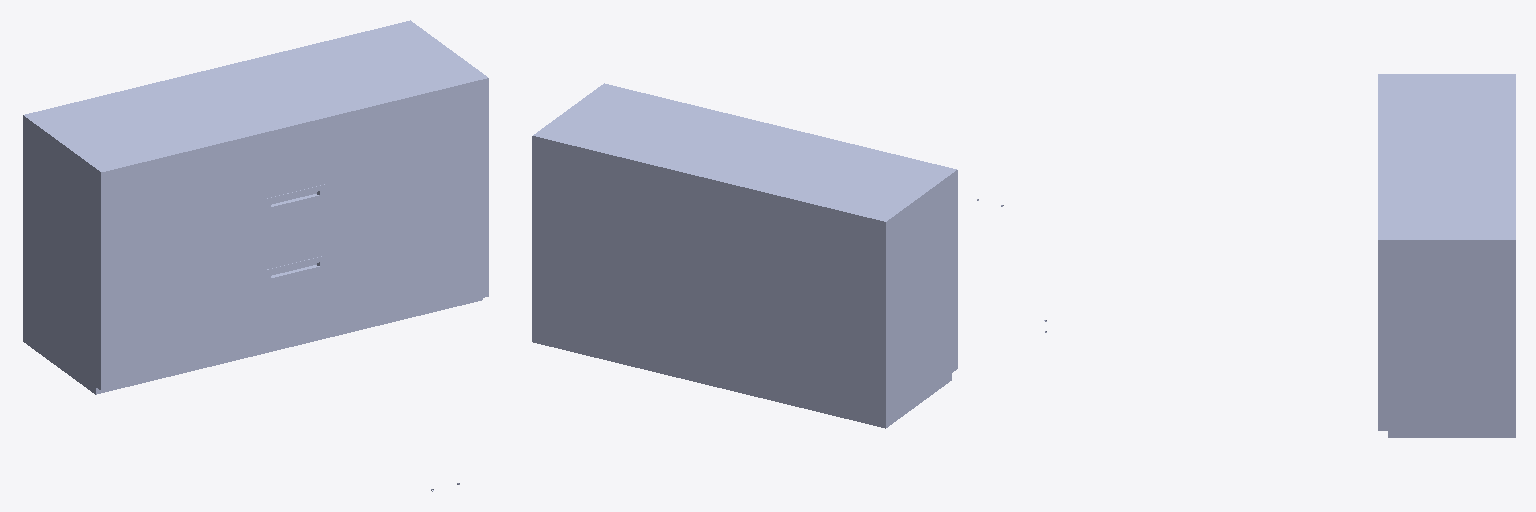
The robot description file, URDF, robot "chest_drawer_wooden":
<robot
  name="chest_drawer_wooden">
  <link
    name="chest_drawer_wooden">
    <inertial>
      <origin
        xyz="0.7204 -1.3051 0.86445"
        rpy="0 0 0" />
      <mass
        value="229.57" />
      <inertia
        ixx="25.0559197064833"
        ixy="-1.36772231973098E-14"
        ixz="1.11574402502704E-14"
        iyy="72.3452375143369"
        iyz="-0.193817859260018"
        izz="62.8744226375866" />
    </inertial>
    <visual>
      <origin
        xyz="0 0 0"
        rpy="0 0 0" />
      <geometry>
        <mesh
          filename="package://chest_drawer_wooden/meshes/chest_drawer_wooden.dae" />
      </geometry>
      <material
        name="">
        <color
          rgba="0.79216 0.81961 0.93333 1" />
      </material>
    </visual>
    <collision>
      <origin
        xyz="0 0 0"
        rpy="0 0 0" />
      <geometry>
        <mesh
          filename="package://chest_drawer_wooden/meshes/chest_drawer_wooden.dae" />
      </geometry>
    </collision>
  </link>
</robot>

--- Render facts (derived) ---
3 views of the same robot in one strip: view 1: azimuth 30°, elevation 25°; view 2: azimuth 150°, elevation 25°; view 3: azimuth 270°, elevation 25° (orthographic).
Robot: chest_drawer_wooden — 1 links, 0 joints (none); root link chest_drawer_wooden; default pose: all joints at 0.
Links seen in each view (by area): view 1: chest_drawer_wooden; view 2: chest_drawer_wooden; view 3: chest_drawer_wooden.
Boxes of the visible links, x1=… form: chest_drawer_wooden: x1=23, y1=20, x2=488, y2=491; chest_drawer_wooden: x1=532, y1=83, x2=1003, y2=428; chest_drawer_wooden: x1=1044, y1=74, x2=1515, y2=437.
Bounding box of the posed robot: 1.54 × 1.85 × 0.86 m (x, y, z).
Meshes: 1 distinct files referenced, 1 mesh visuals loaded (1 Collada DAE).